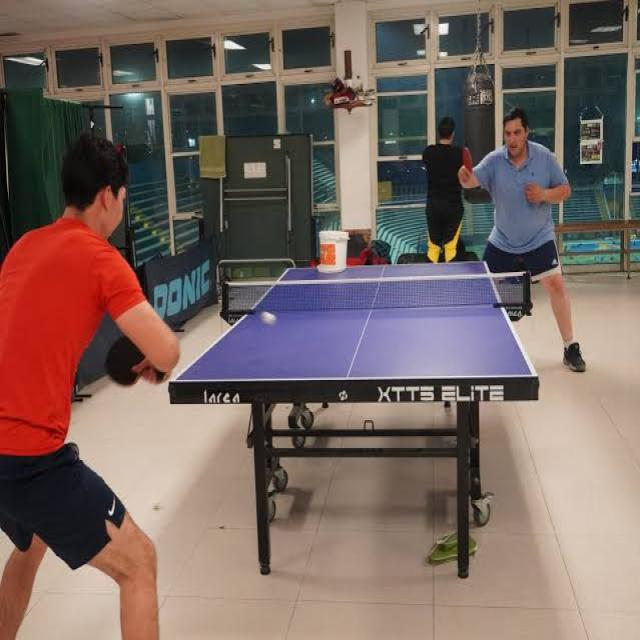TT Net: (220, 270, 533, 321)
TT Racket: (98, 331, 150, 389), (459, 139, 477, 184)
TT Table: (172, 260, 537, 380)
